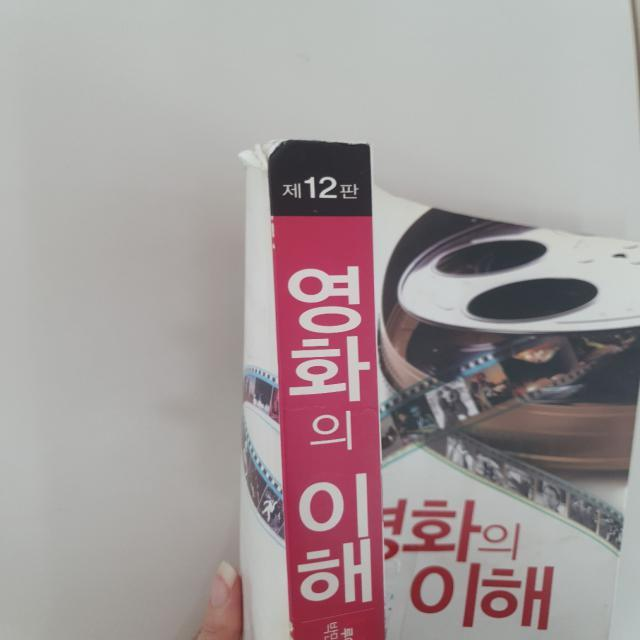Ripped: (224, 129, 301, 190)
Wornout: (301, 130, 389, 155), (260, 204, 286, 253), (278, 614, 305, 639)
